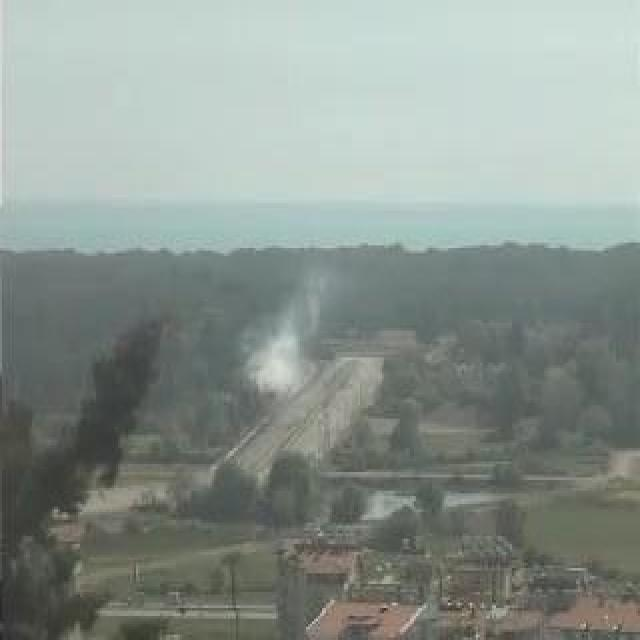Smoke: (247, 280, 319, 395)
